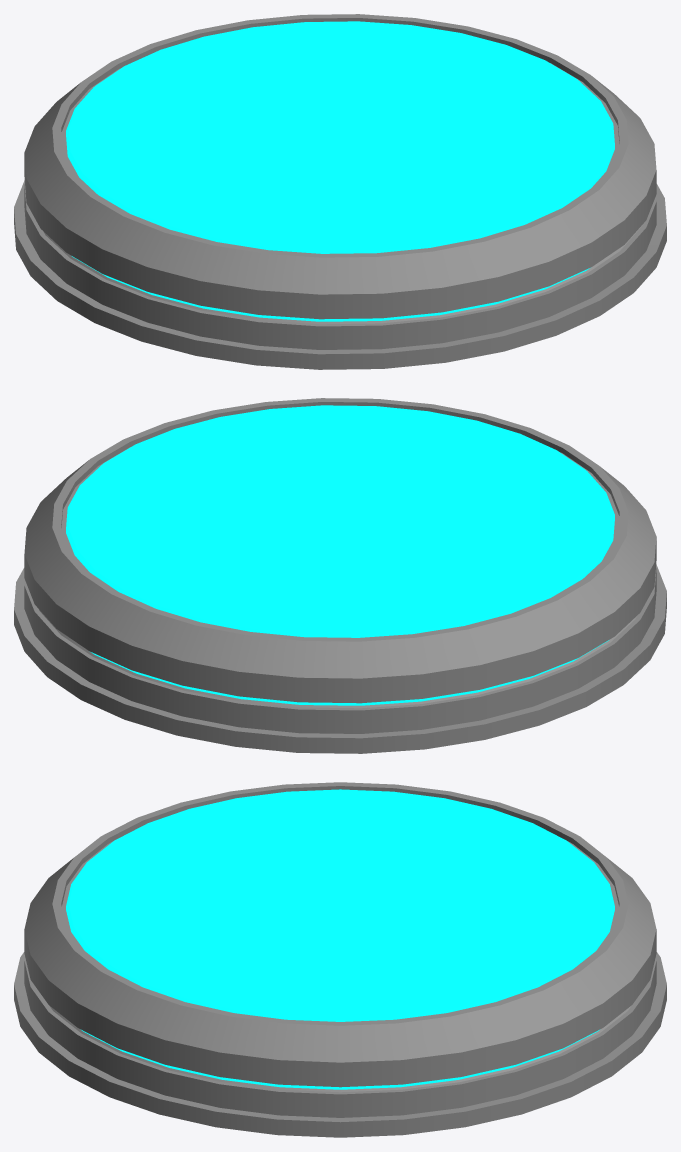
File: Platform Sci Fi.fbx
3 renders of one model, top to bottom at view 1: azimuth 30°, elevation 25°; view 2: azimuth 150°, elevation 25°; view 3: azimuth 270°, elevation 25°, orthographic.
Visible parts, largest first — view 1: Cylinder; view 2: Cylinder; view 3: Cylinder.
Part boxes in pixels (x1,y1,x2,y2): Cylinder: (14, 14, 666, 369); Cylinder: (14, 398, 666, 753); Cylinder: (14, 782, 666, 1137).
Size of the model in its own units: 207 by 33.45 by 207.
